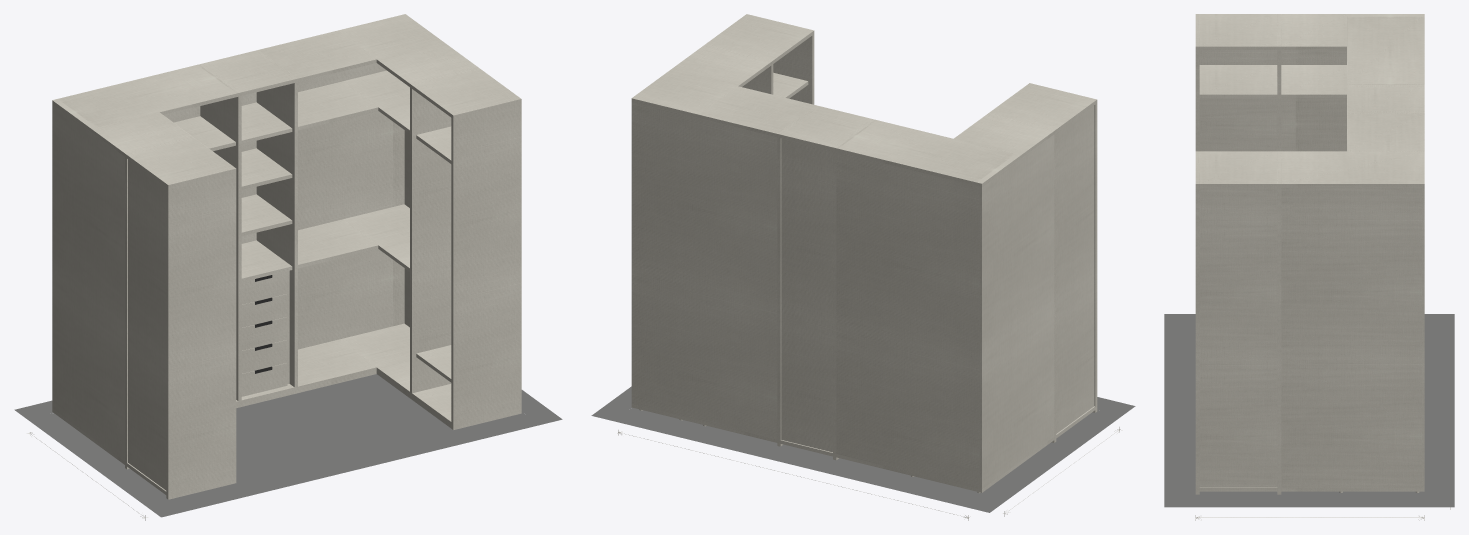
3 renders of one model, left to right at view 1: azimuth 30°, elevation 25°; view 2: azimuth 150°, elevation 25°; view 3: azimuth 270°, elevation 25°, orthographic.
Visible parts, largest first — view 1: Mesh5 D1_SC_DXF1 Model, Mesh27 D1_SC_DXF1 Model, Mesh1 D1_SC_DXF1 Model, Mesh103 D1_SC_DXF1 Model, Mesh67 D1_SC_DXF1 Model, Mesh109 D1_SC_DXF1 Model, Mesh6 D1_SC_DXF1 Model, Mesh110 D1_SC_DXF1 Model, Mesh60 D1_SC_DXF1 Model, Mesh73 D1_SC_DXF1 Model, Mesh82 D1_SC_DXF1 Model, Mesh83 D1_SC_DXF1 Model (+9 smaller); view 2: Mesh27 D1_SC_DXF1 Model, Mesh67 D1_SC_DXF1 Model, Mesh5 D1_SC_DXF1 Model, Mesh53 D1_SC_DXF1 Model, Mesh6 D1_SC_DXF1 Model, Mesh110 D1_SC_DXF1 Model, Mesh109 D1_SC_DXF1 Model, Mesh103 D1_SC_DXF1 Model, Mesh1 D1_SC_DXF1 Model, Mesh20 D1_SC_DXF1 Model, Mesh95 D1_SC_DXF1 Model, Mesh60 D1_SC_DXF1 Model; view 3: Mesh67 D1_SC_DXF1 Model, Mesh5 D1_SC_DXF1 Model, Mesh94 D1_SC_DXF1 Model, Mesh110 D1_SC_DXF1 Model, Mesh6 D1_SC_DXF1 Model, Mesh27 D1_SC_DXF1 Model, Mesh109 D1_SC_DXF1 Model, Mesh10 D1_SC_DXF1 Model, Mesh33 D1_SC_DXF1 Model, Mesh103 D1_SC_DXF1 Model, Mesh1 D1_SC_DXF1 Model, Mesh60 D1_SC_DXF1 Model (+1 smaller).
Boxes of the visible parts, <box> form: Mesh5 D1_SC_DXF1 Model: <box>52,14,519,469</box>; Mesh27 D1_SC_DXF1 Model: <box>52,104,200,460</box>; Mesh1 D1_SC_DXF1 Model: <box>166,167,236,499</box>; Mesh103 D1_SC_DXF1 Model: <box>451,97,521,429</box>; Mesh67 D1_SC_DXF1 Model: <box>298,63,409,349</box>; Mesh109 D1_SC_DXF1 Model: <box>51,374,526,501</box>; Mesh6 D1_SC_DXF1 Model: <box>128,159,166,490</box>; Mesh110 D1_SC_DXF1 Model: <box>14,390,562,517</box>; Mesh60 D1_SC_DXF1 Model: <box>298,323,409,390</box>; Mesh73 D1_SC_DXF1 Model: <box>298,81,378,130</box>; Mesh82 D1_SC_DXF1 Model: <box>298,219,378,268</box>; Mesh83 D1_SC_DXF1 Model: <box>343,204,409,271</box>; Mesh27 D1_SC_DXF1 Model: <box>836,135,1054,489</box>; Mesh67 D1_SC_DXF1 Model: <box>631,102,777,439</box>; Mesh5 D1_SC_DXF1 Model: <box>631,15,1095,460</box>; Mesh53 D1_SC_DXF1 Model: <box>781,138,832,452</box>; Mesh6 D1_SC_DXF1 Model: <box>1056,105,1094,433</box>; Mesh110 D1_SC_DXF1 Model: <box>591,386,1135,512</box>; Mesh109 D1_SC_DXF1 Model: <box>627,408,1099,497</box>; Mesh103 D1_SC_DXF1 Model: <box>745,14,814,104</box>; Mesh1 D1_SC_DXF1 Model: <box>1028,83,1097,412</box>; Mesh20 D1_SC_DXF1 Model: <box>836,437,1054,492</box>; Mesh95 D1_SC_DXF1 Model: <box>773,72,808,98</box>; Mesh60 D1_SC_DXF1 Model: <box>631,404,777,442</box>; Mesh67 D1_SC_DXF1 Model: <box>1281,187,1424,487</box>; Mesh5 D1_SC_DXF1 Model: <box>1199,14,1424,494</box>; Mesh94 D1_SC_DXF1 Model: <box>1199,187,1277,487</box>; Mesh110 D1_SC_DXF1 Model: <box>1164,314,1454,507</box>; Mesh6 D1_SC_DXF1 Model: <box>1199,50,1277,151</box>; Mesh27 D1_SC_DXF1 Model: <box>1281,50,1346,151</box>; Mesh109 D1_SC_DXF1 Model: <box>1190,325,1428,496</box>; Mesh10 D1_SC_DXF1 Model: <box>1199,65,1277,98</box>; Mesh33 D1_SC_DXF1 Model: <box>1281,65,1346,98</box>; Mesh103 D1_SC_DXF1 Model: <box>1195,151,1199,494</box>; Mesh1 D1_SC_DXF1 Model: <box>1195,14,1199,151</box>; Mesh60 D1_SC_DXF1 Model: <box>1281,488,1424,491</box>.
Size of the model in its own units: 139 by 109 by 87.64.
3 materials, 1 textured.
